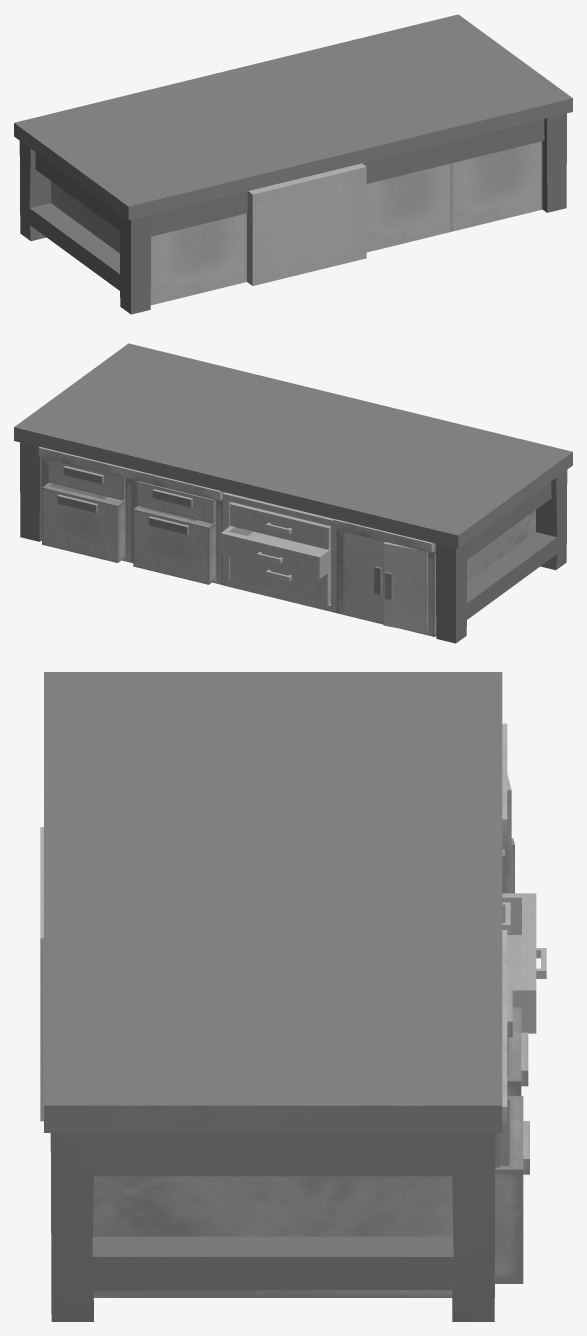
Rendered from Pfb_Table_02_4_JLAB_Temp.fbx.
The picture shows the model from 3 angles, top to bottom: view 1: azimuth 30°, elevation 25°; view 2: azimuth 150°, elevation 25°; view 3: azimuth 270°, elevation 25°; orthographic projection. The views are drawn at different scales.
Visible parts, largest first — view 1: Mat_Table_02_White_JLAB 1, Kitchen, Kitchen 4; view 2: Mat_Table_02_White_JLAB 1, Kitchen, Kitchen 4; view 3: Mat_Table_02_White_JLAB 1, Kitchen, Kitchen 4.
Part boxes in pixels (x1,y1,x2,y2): Mat_Table_02_White_JLAB 1: (14, 14, 572, 314); Kitchen: (51, 141, 542, 305); Kitchen 4: (247, 163, 366, 285); Mat_Table_02_White_JLAB 1: (14, 343, 572, 643); Kitchen: (38, 447, 535, 636); Kitchen 4: (220, 492, 336, 612); Mat_Table_02_White_JLAB 1: (44, 672, 502, 1321); Kitchen: (93, 723, 529, 1297); Kitchen 4: (40, 827, 546, 1121).
Size of the model in its own units: 2.78 by 0.6588 by 1.37.
3 materials, 3 textured.
